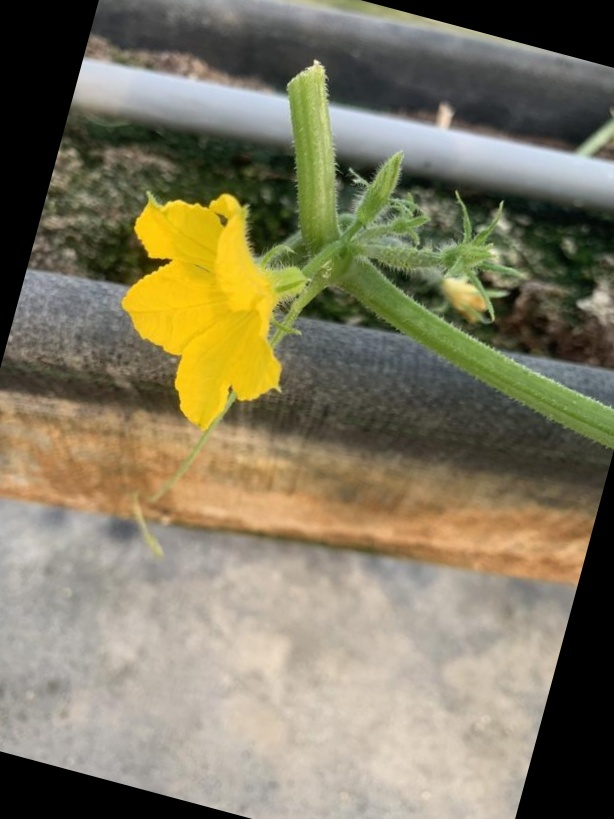flowering: (109, 191, 338, 435)
mature: (109, 194, 335, 435)
